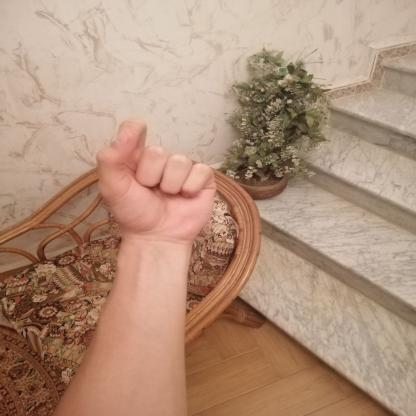FAA: (81, 110, 227, 252)
